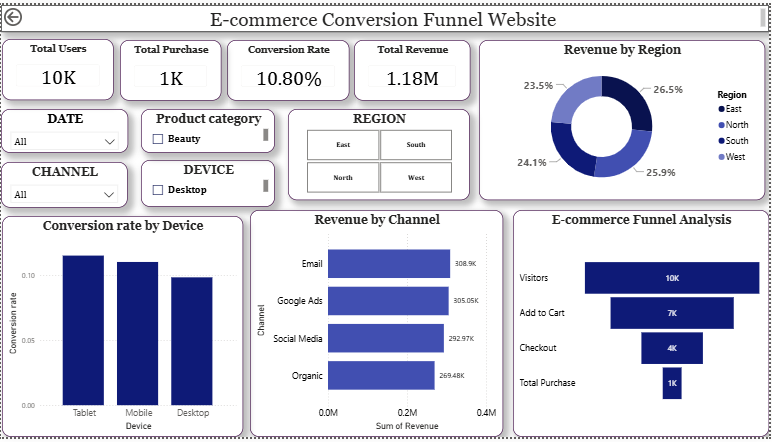

The dashboard page shown, as its layout file describes it:
{"tool":"powerbi","page":{"name":"Page 1","canvas":[1280,720],"ordinal":0},"visuals":[{"type":"textbox","box":[0,0,1280,45],"z":0},{"type":"slicer","title":"DATE","fields":{"Values":["funnel_analysis_data.Date.Variation.Date Hierarchy.Day"]},"box":[0,173.3,212.2,73.3],"z":1000},{"type":"slicer","title":"CHANNEL","fields":{"Values":["funnel_analysis_data.Channel","funnel_analysis_data.Channel"]},"box":[0,262.2,211.1,75.6],"z":2000},{"type":"slicer","title":"DEVICE","fields":{"Values":["funnel_analysis_data.Device"]},"box":[233.3,258.3,223.3,78.3],"z":3000},{"type":"cardVisual","title":"Total Users","fields":{"Data":["funnel_analysis_data.Total_Count"]},"box":[2,56,186,102],"z":4000},{"type":"cardVisual","title":"Conversion Rate","fields":{"Data":["funnel_analysis_data.Conversion rate"]},"box":[376.2,57.5,203.8,101.2],"z":5000},{"type":"cardVisual","title":"Total Purchase","fields":{"Data":["funnel_analysis_data.Total Purchase"]},"box":[197.5,57.5,168.8,101.2],"z":6000},{"type":"cardVisual","title":"Total Revenue","fields":{"Data":["Sum(funnel_analysis_data.Revenue)"]},"box":[588.8,57.5,193.8,101.2],"z":7000},{"type":"funnel","title":"E-commerce Funnel Analysis","fields":{"Y":["funnel_analysis_data.Total browse","funnel_analysis_data.Add to Cart Users","funnel_analysis_data.Total Checkout Users","funnel_analysis_data.Total Purchase"]},"box":[853.3,341.7,426.7,378.3],"z":8000},{"type":"actionButton","box":[0,0,100,40],"z":9000},{"type":"barChart","title":"Revenue by Channel","fields":{"Y":["Sum(funnel_analysis_data.Revenue)"],"Category":["funnel_analysis_data.Channel"]},"box":[415,341.7,421.7,378.3],"z":10000},{"type":"slicer","title":"Product category","fields":{"Values":["funnel_analysis_data.Product_Category"]},"box":[233.3,173.3,223.3,73.3],"z":11000},{"type":"clusteredColumnChart","fields":{"Category":["funnel_analysis_data.Device"],"Y":["funnel_analysis_data.Conversion rate"]},"box":[1.7,351.7,401.7,368.3],"z":12000},{"type":"donutChart","title":" Revenue by Region","fields":{"Category":["funnel_analysis_data.Region"],"Y":["Sum(funnel_analysis_data.Revenue)"]},"box":[796.7,58.3,476.7,266.7],"z":13000},{"type":"slicer","title":"REGION","fields":{"Values":["funnel_analysis_data.Region"]},"box":[478.3,173.3,303.3,151.7],"z":14000}]}

Visuals, with their boxes in screenshot pixels (x1, y1, x2, y2), scaled from the page's 1280x720 canvas onto the 772x442 screenshot:
textbox: locate(0, 0, 771, 28)
"DATE" slicer: locate(0, 106, 128, 151)
"CHANNEL" slicer: locate(0, 161, 127, 207)
"DEVICE" slicer: locate(141, 159, 275, 207)
"Total Users" cardVisual: locate(1, 34, 113, 97)
"Conversion Rate" cardVisual: locate(227, 35, 350, 97)
"Total Purchase" cardVisual: locate(119, 35, 221, 97)
"Total Revenue" cardVisual: locate(355, 35, 472, 97)
"E-commerce Funnel Analysis" funnel: locate(515, 210, 771, 441)
actionButton: locate(0, 0, 60, 25)
"Revenue by Channel" barChart: locate(250, 210, 505, 441)
"Product category" slicer: locate(141, 106, 275, 151)
clusteredColumnChart - funnel_analysis_data.Device x funnel_analysis_data.Conversion rate: locate(1, 216, 243, 441)
" Revenue by Region" donutChart: locate(481, 36, 768, 200)
"REGION" slicer: locate(288, 106, 471, 200)
